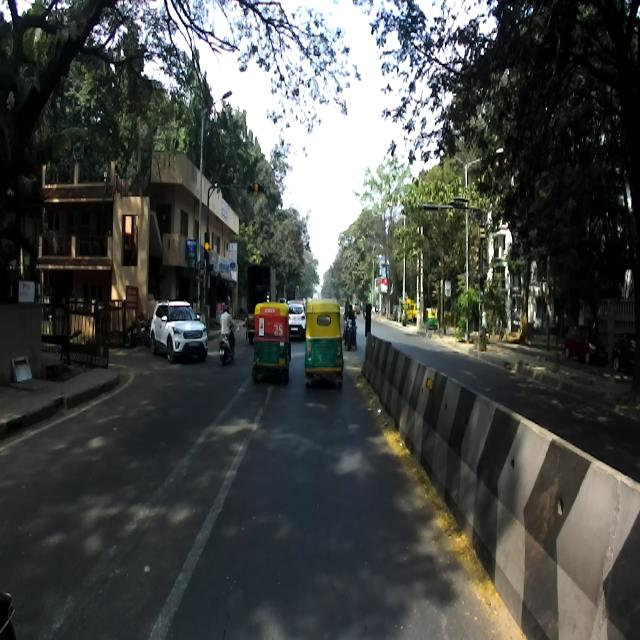auto ahead at: (304, 300, 344, 386), (256, 300, 290, 386)
car ahead at: (150, 299, 210, 363)
motorcycle ahead at: (215, 306, 238, 364)
traffic signal ahead at: (200, 225, 214, 268)
